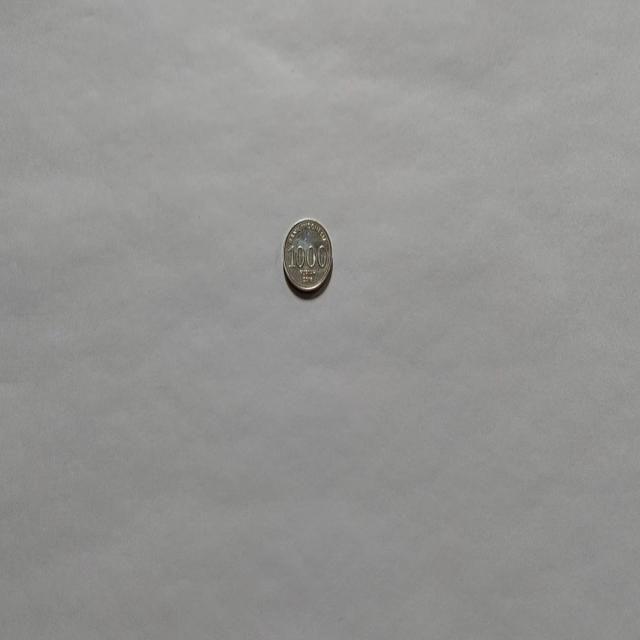seribu rupiah koin: (281, 216, 333, 296)
